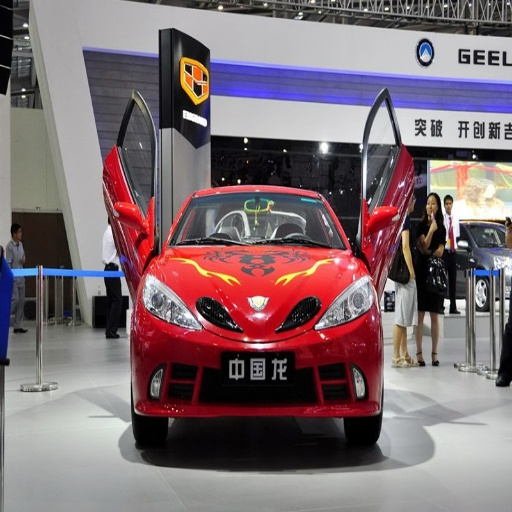front_bumper: (136, 306, 381, 414)
front_right_light: (143, 278, 198, 327)
trunk: (207, 294, 309, 355)
